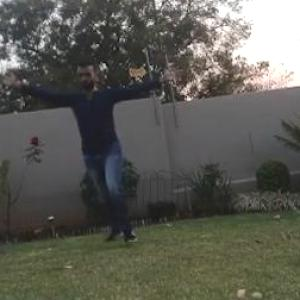takeoff: (20, 58, 189, 252)
